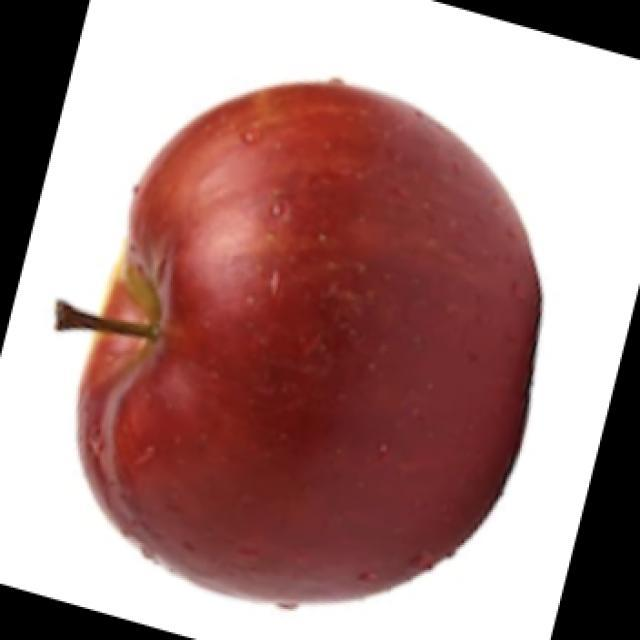Fresh Apple: (102, 93, 523, 587)
